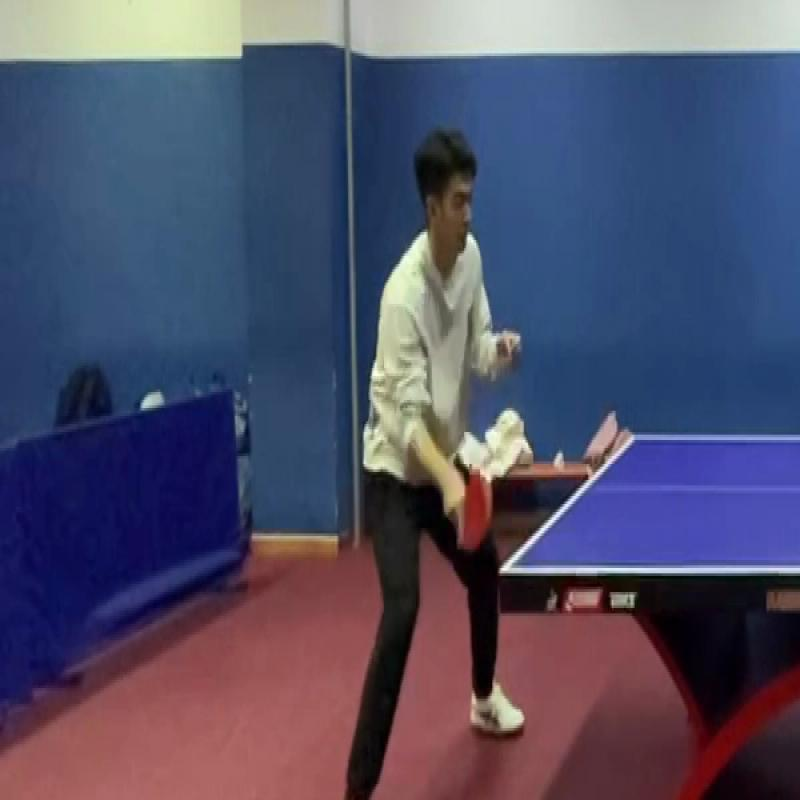bats: (450, 464, 498, 559)
